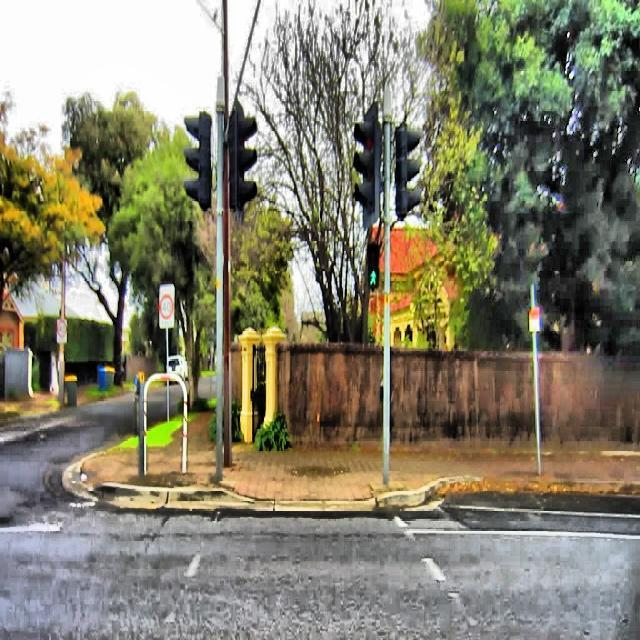green_light: (367, 266, 377, 286)
